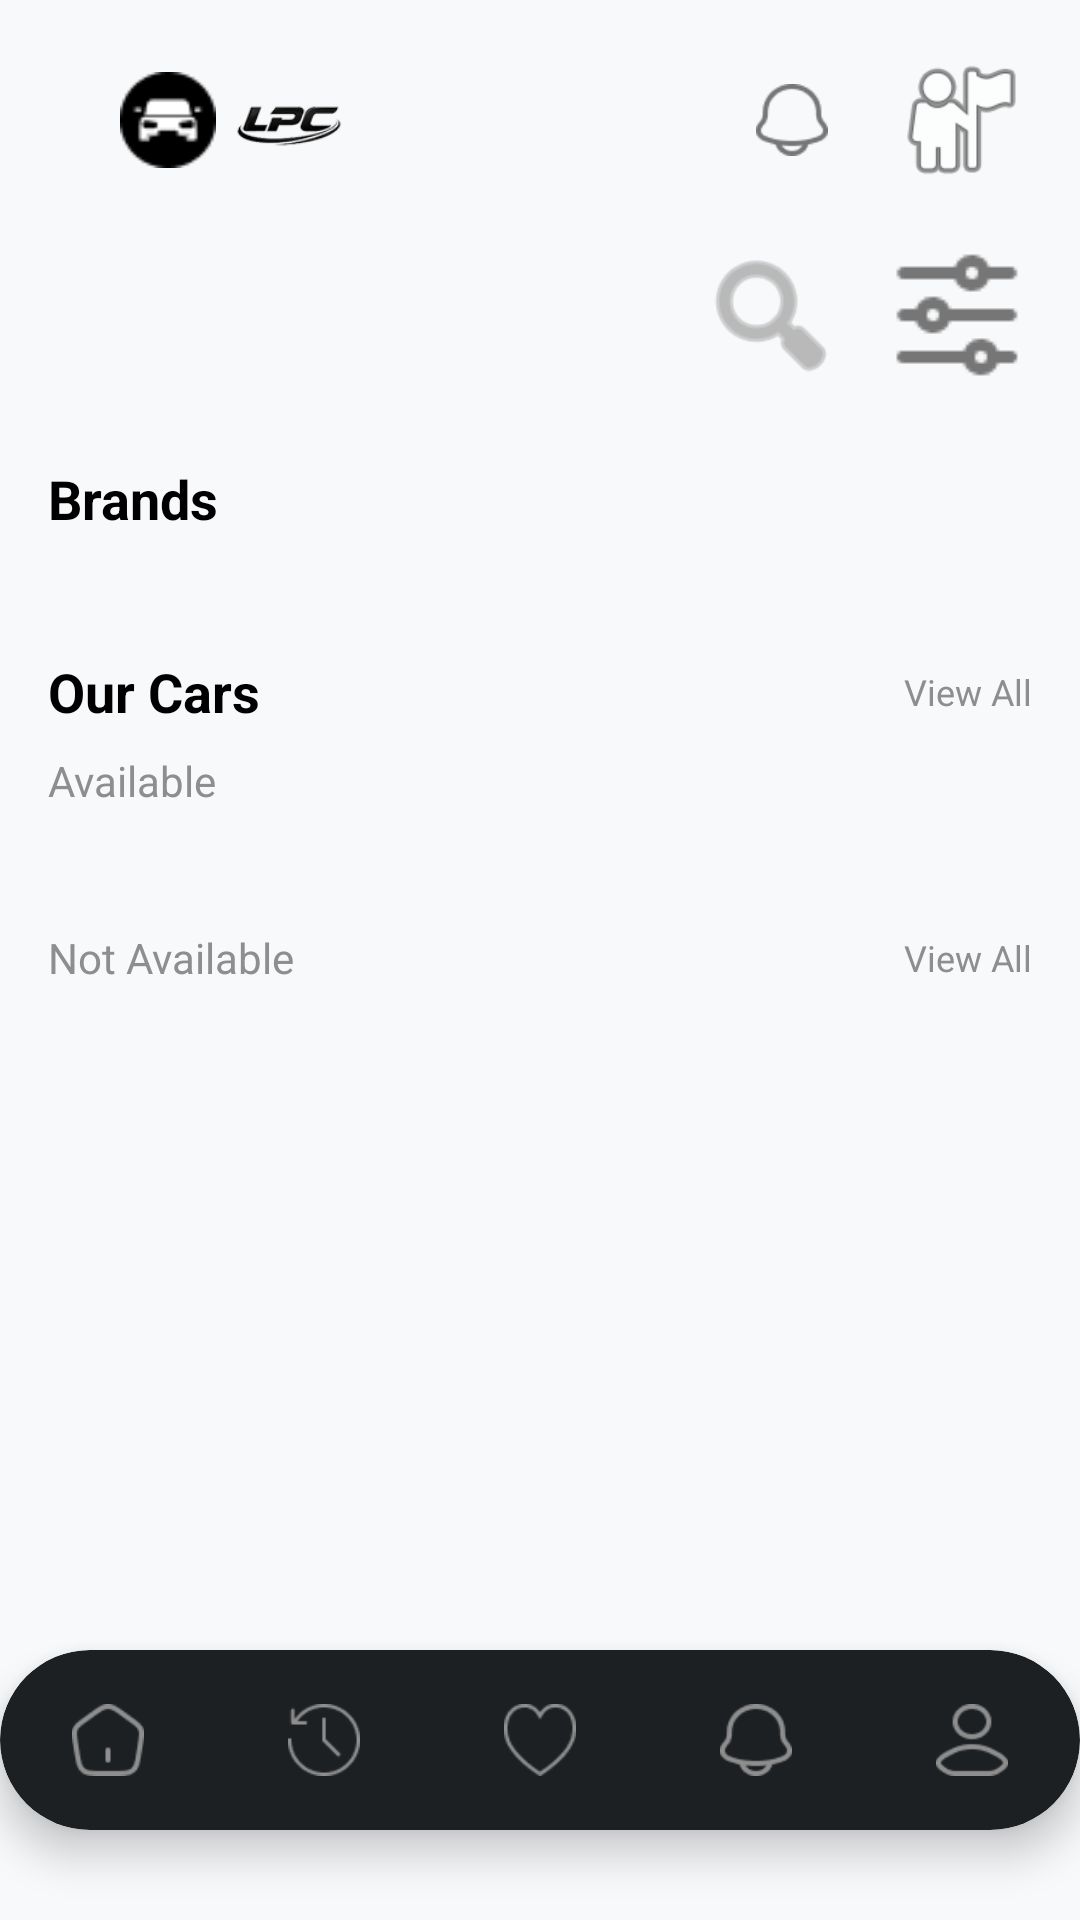

Where to tap for icons on this 1080x1920 app screen, as [x,y]:
favourite heart: [540,1740]
filter: [957,315]
history: [324,1740]
homepage: [108,1740]
notification: [792,120], [756,1740]
profile settings: [972,1740]
search: [771,316]
